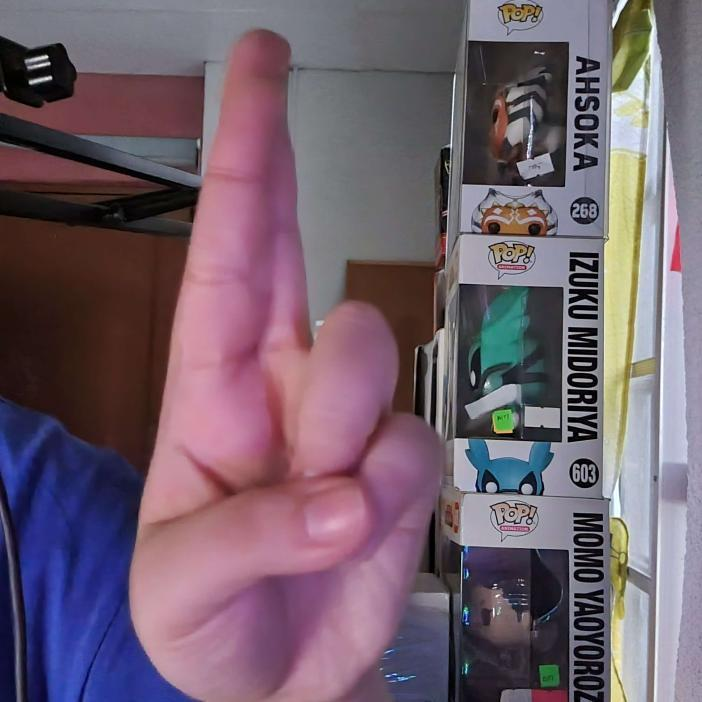r: (129, 28, 444, 702)
